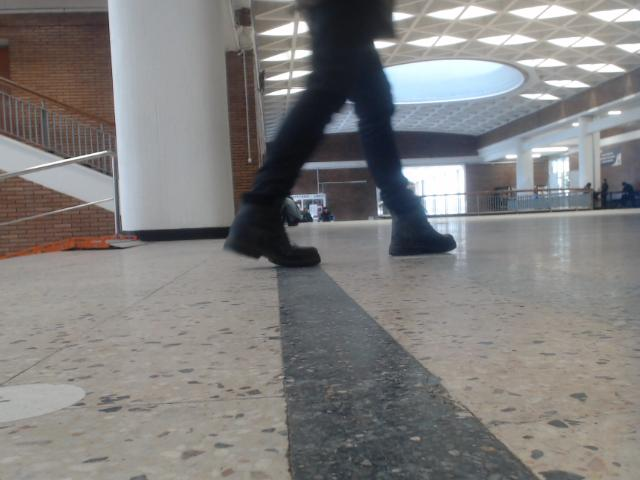rampDown: (0, 235, 144, 259)
ramps-railing: (0, 151, 121, 232)
